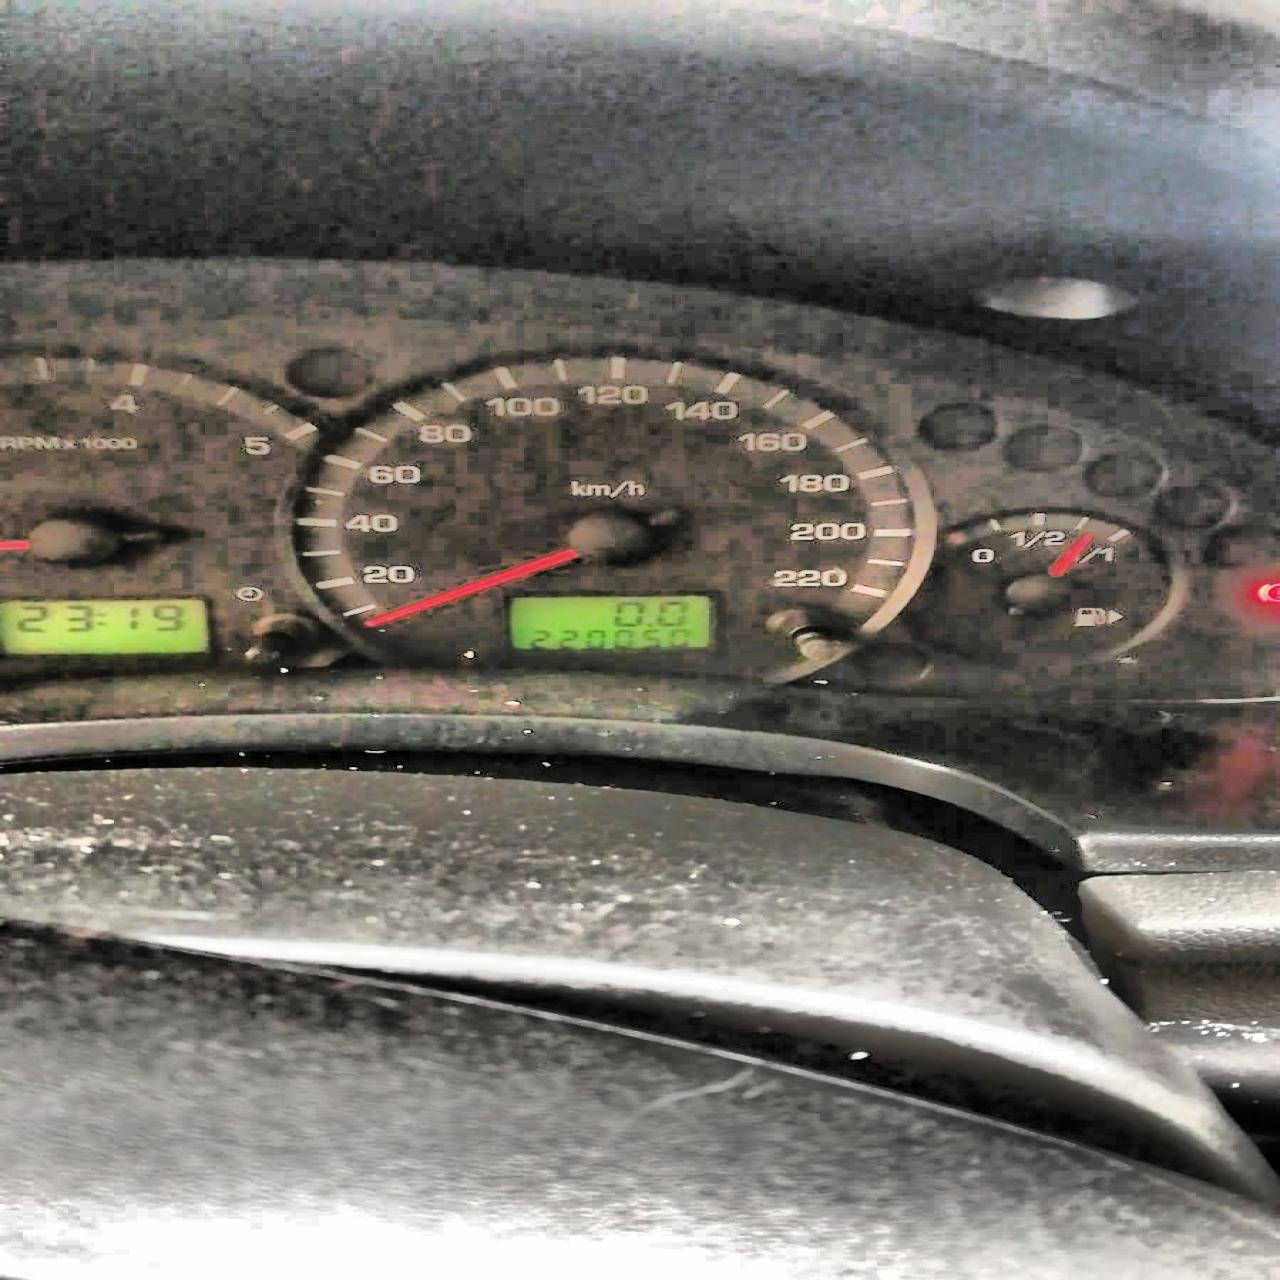-: (645, 622, 654, 627)
0: (655, 600, 688, 626), (612, 600, 644, 626), (666, 628, 689, 647), (612, 628, 634, 647), (585, 629, 605, 648)
2: (556, 629, 577, 648), (529, 629, 550, 648)
5: (640, 628, 660, 647)
odometer: (502, 592, 712, 652)
